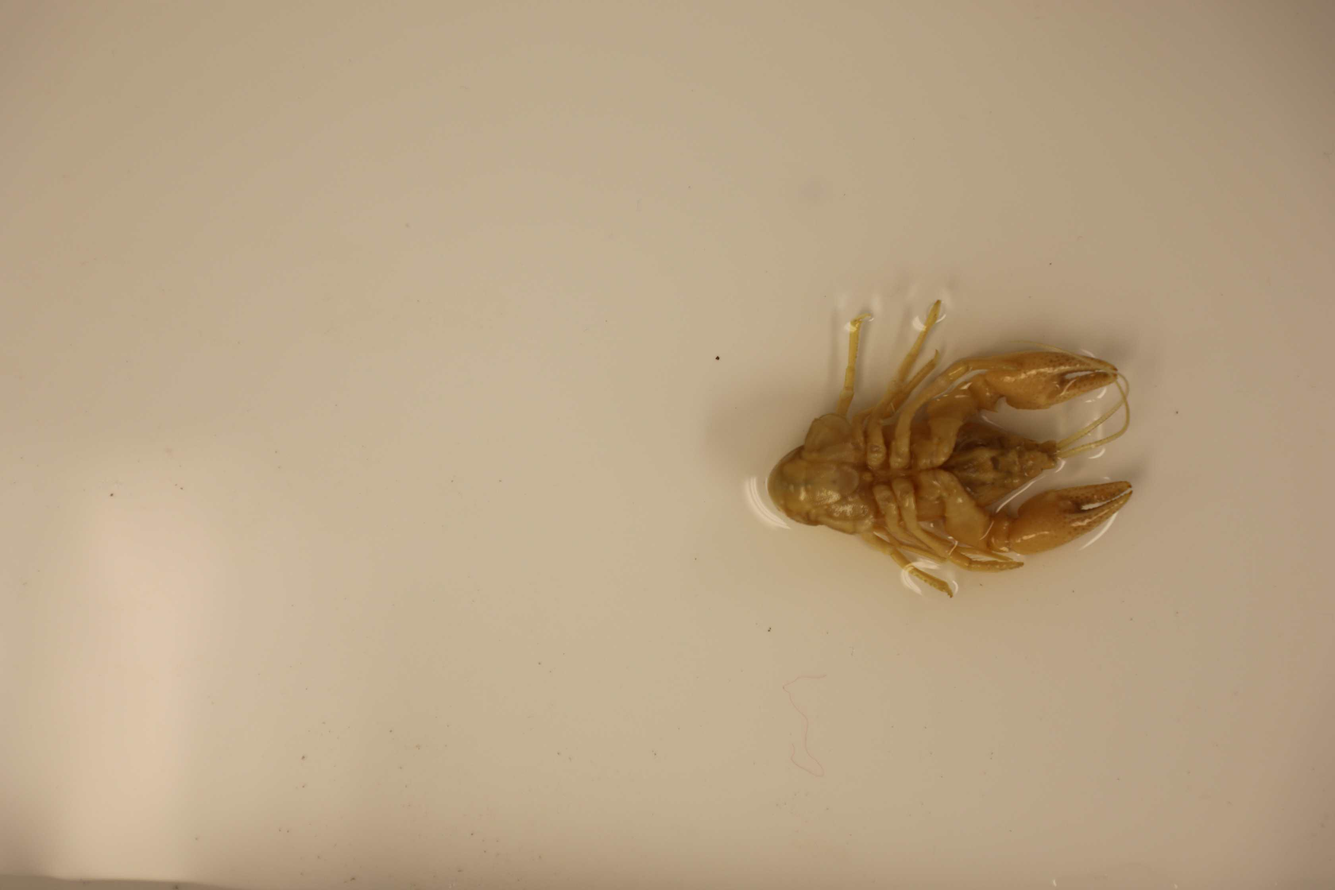Other: (765, 291, 1143, 611)
